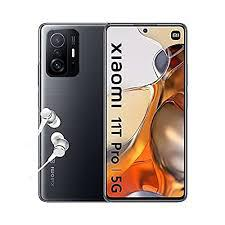Smartphone: (104, 18, 191, 210), (34, 19, 109, 213)
